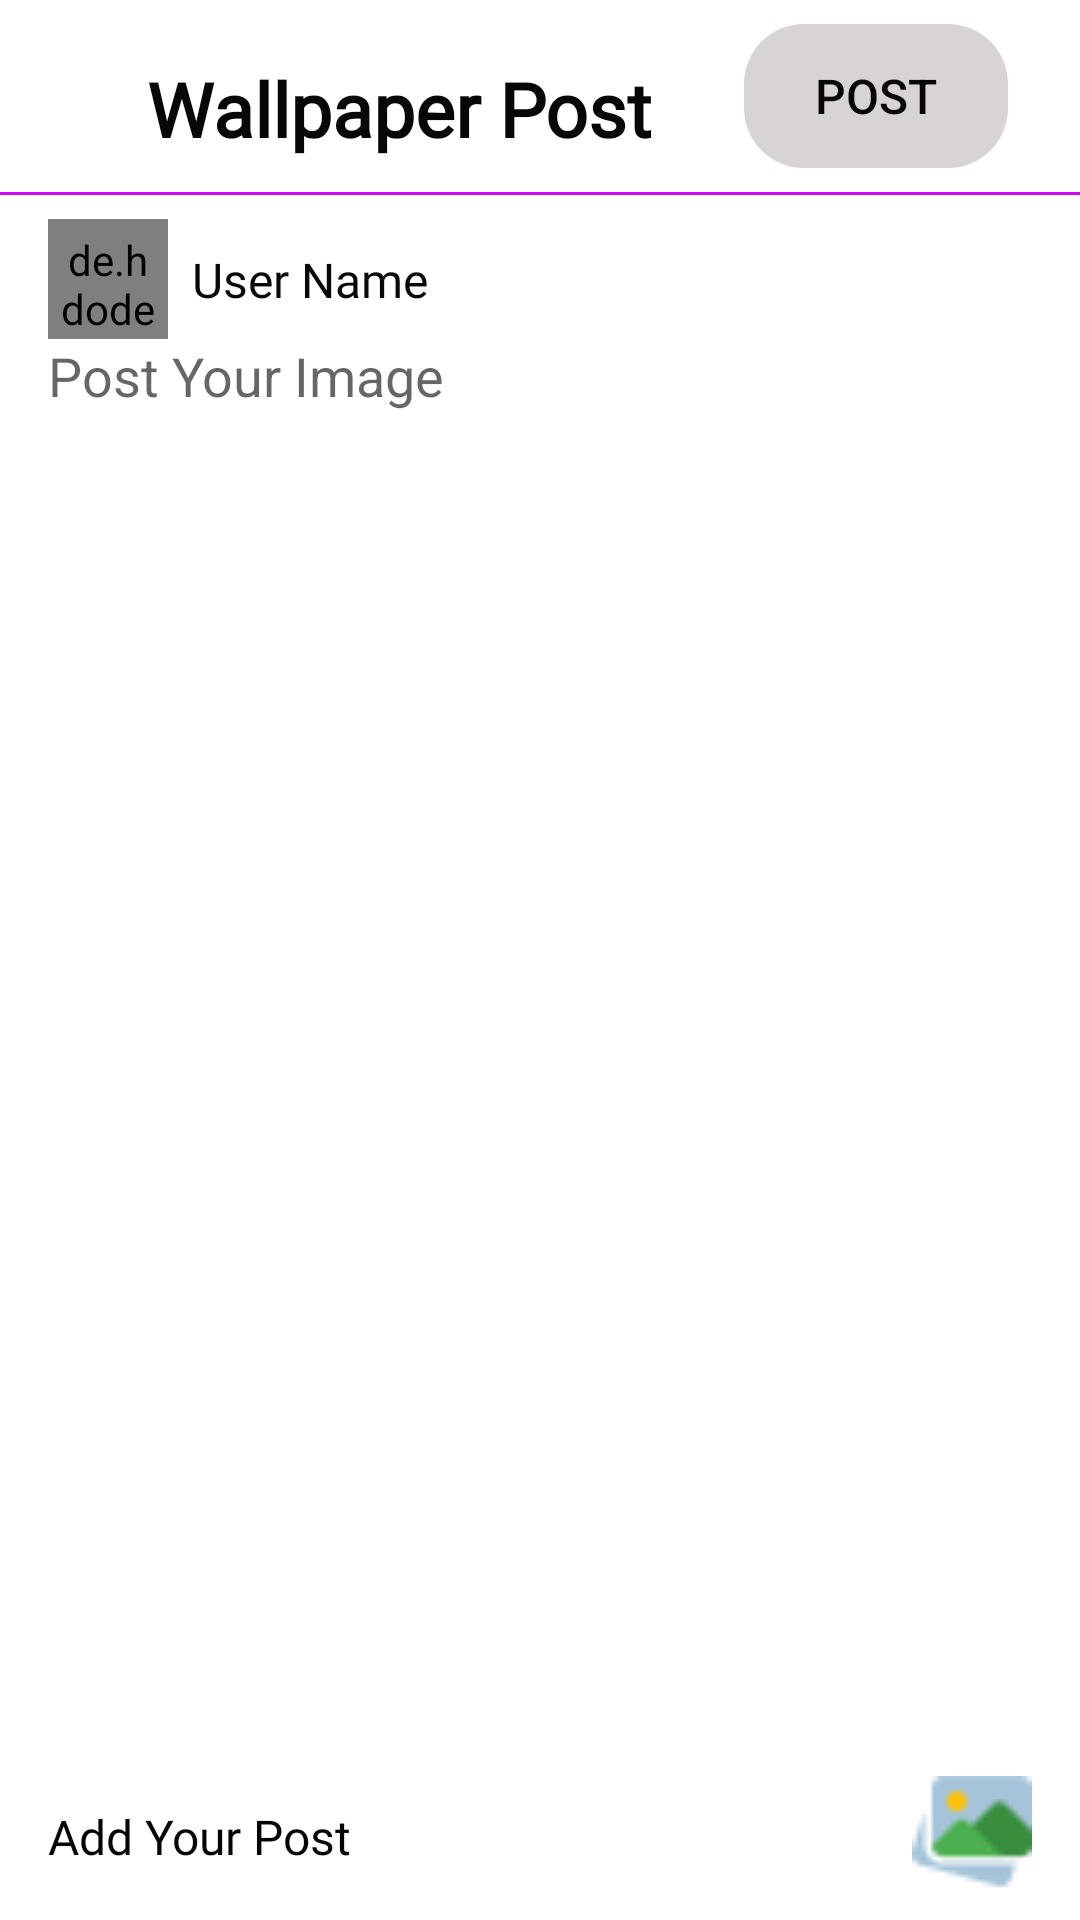

Where icons sit on this 1080px x 1920px app screen, as (x1, y1, x2, y2):
postimg: (912, 1776, 1032, 1887)
